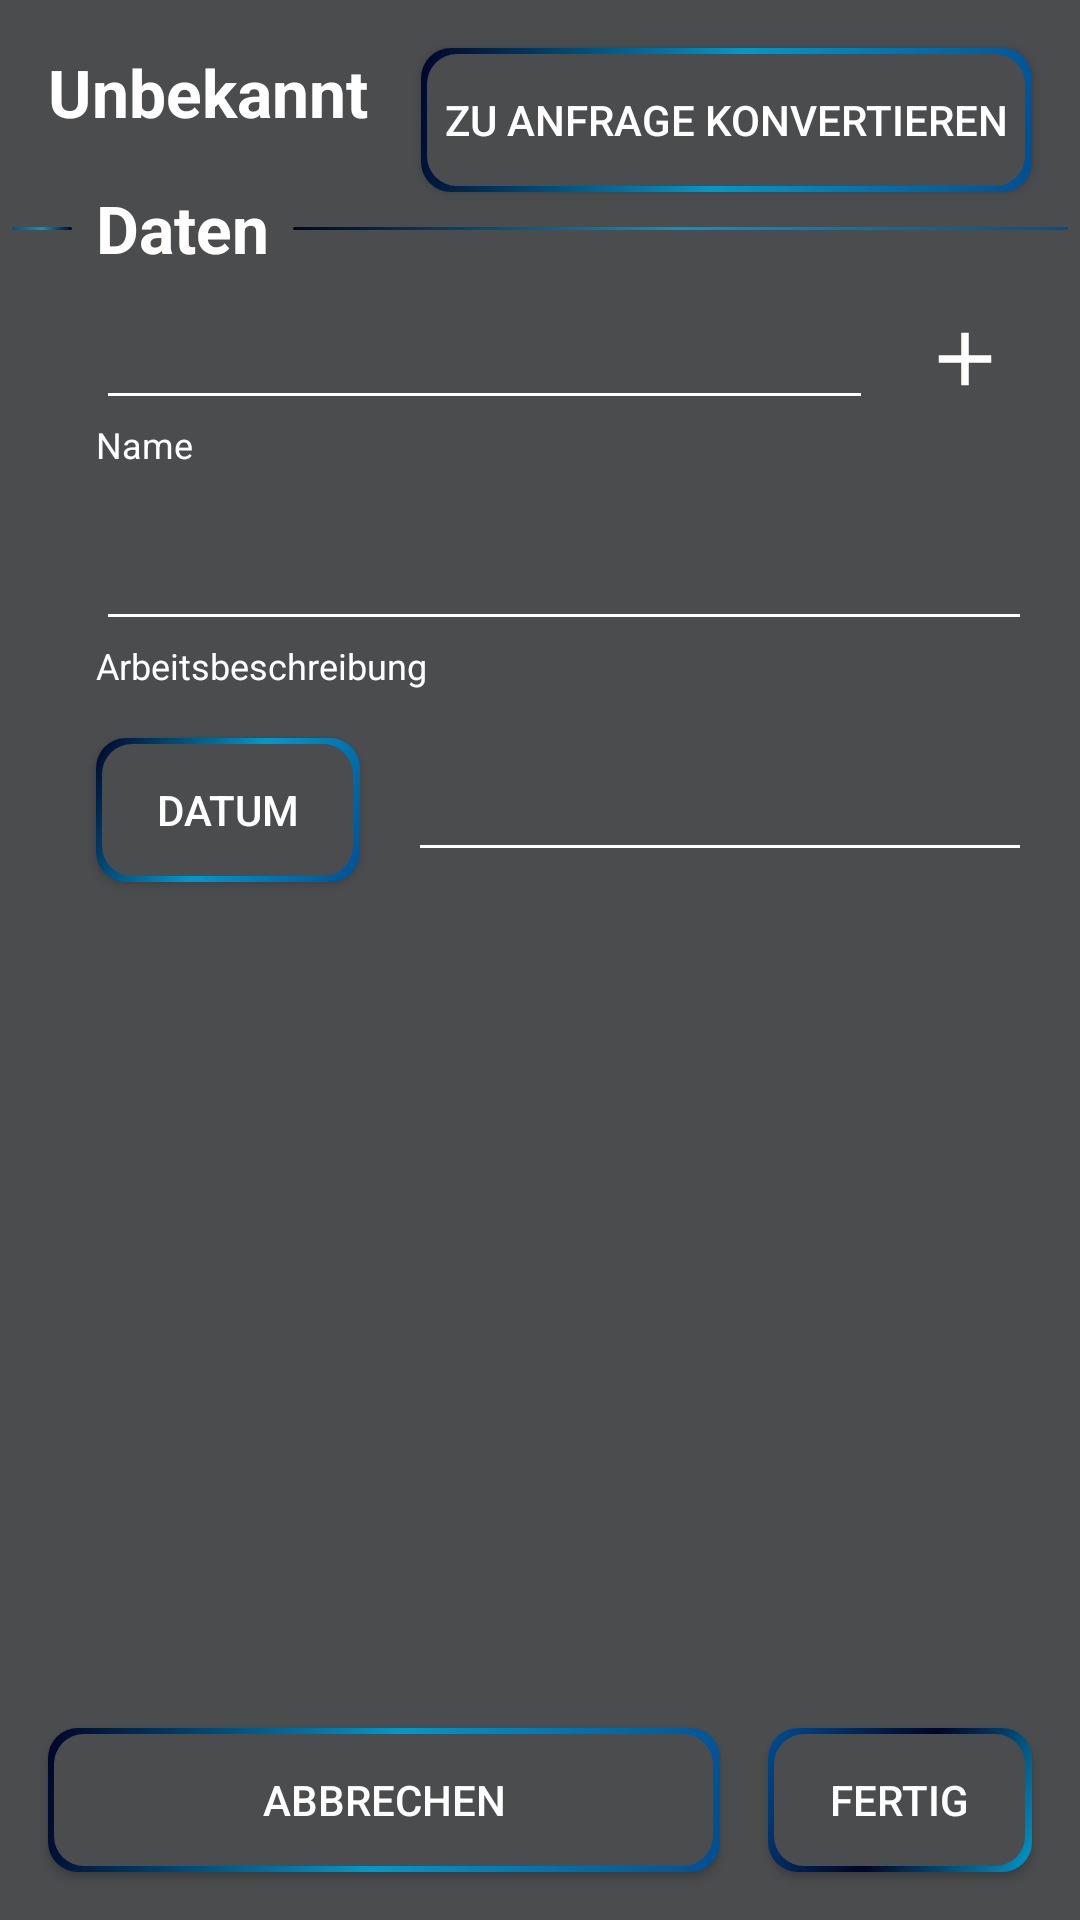

Icon click points for this 1080x1920 phone screenshot, format point (x, y):
add: point (965, 359)
